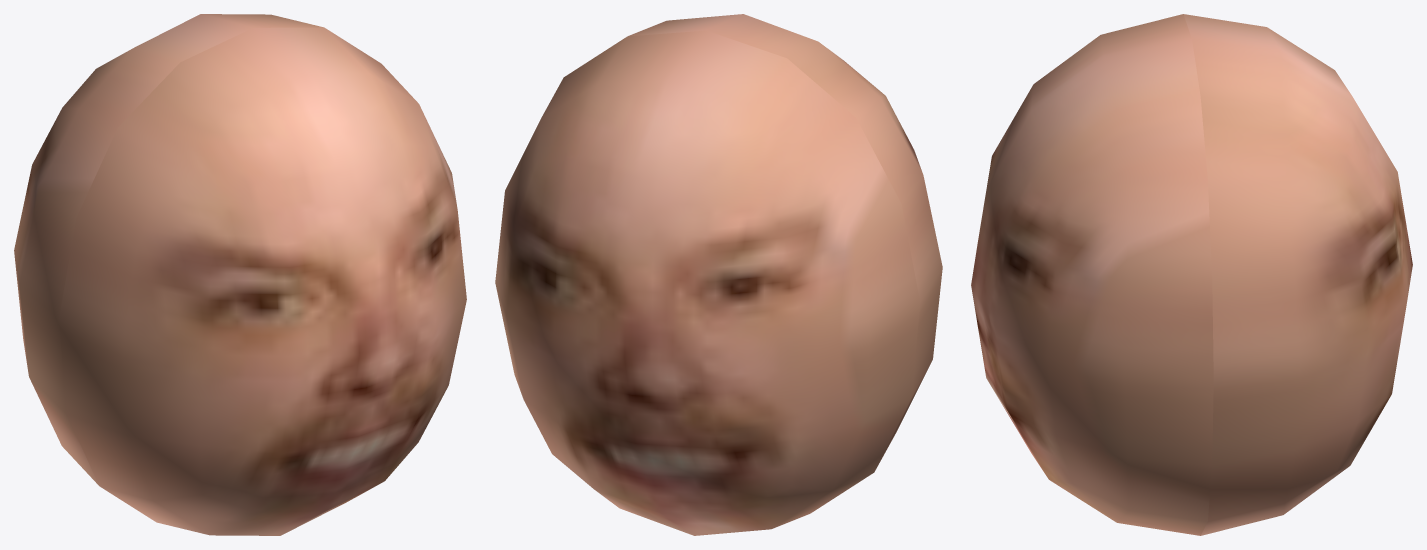
The model's file is mulder.glb.
3 renders of one model, left to right at view 1: azimuth 30°, elevation 25°; view 2: azimuth 150°, elevation 25°; view 3: azimuth 270°, elevation 25°, orthographic.
Visible parts, largest first — view 1: Muldegg; view 2: Muldegg; view 3: Muldegg.
Part boxes in pixels (box(x1,y1,x2,y2)): Muldegg: box(14, 14, 466, 535); Muldegg: box(495, 14, 942, 535); Muldegg: box(971, 14, 1412, 535).
Size of the model in its own units: 1.18 by 1.43 by 1.18.
1 material, 1 textured.
